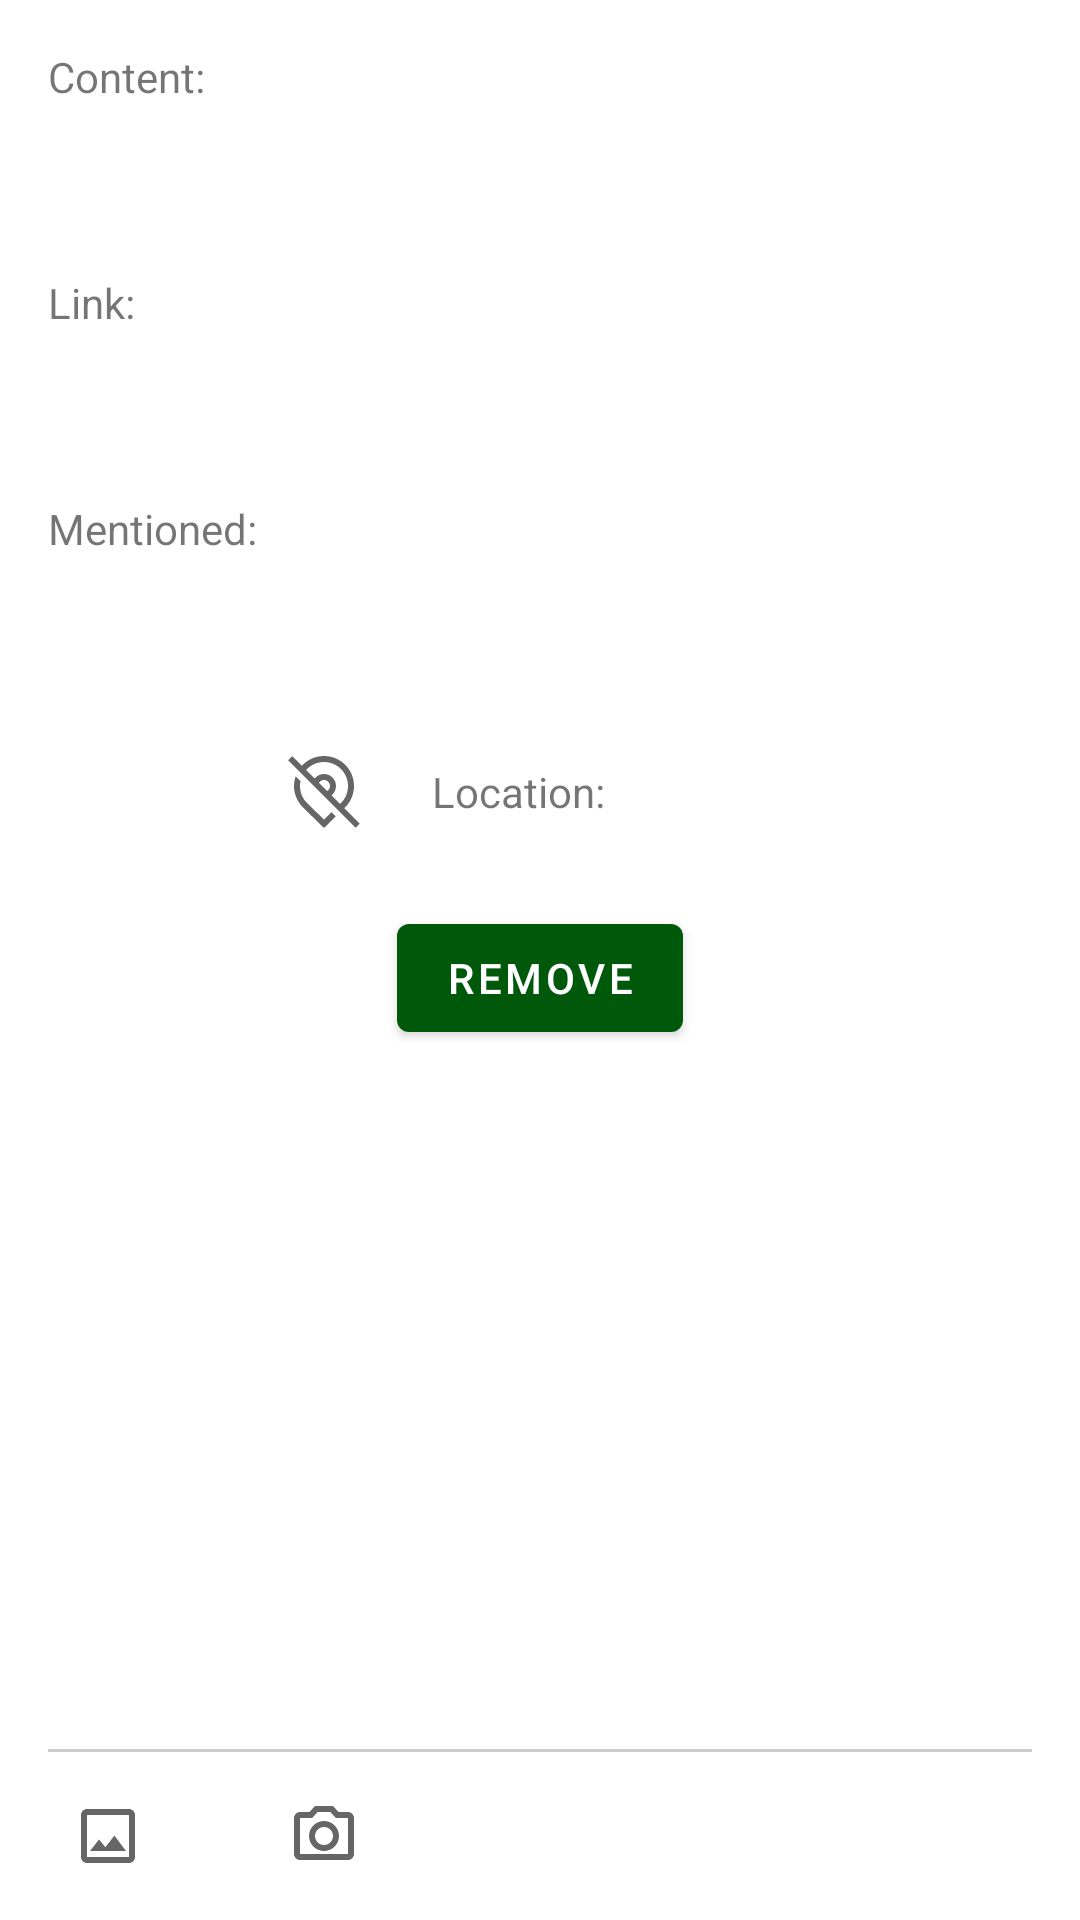

Named icons in this screenshot (1080w x 1920h) and their centers, point (x, y):
Select photo: point (108, 1836)
Take photo: point (324, 1833)
